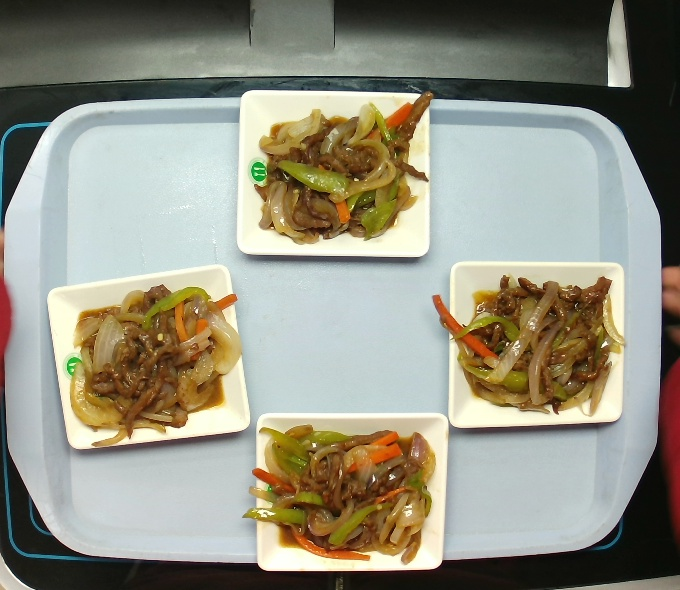wcq-NiuYangCongNiuLiu: (245, 93, 441, 245), (65, 281, 240, 439), (444, 264, 624, 416), (248, 414, 426, 561)
